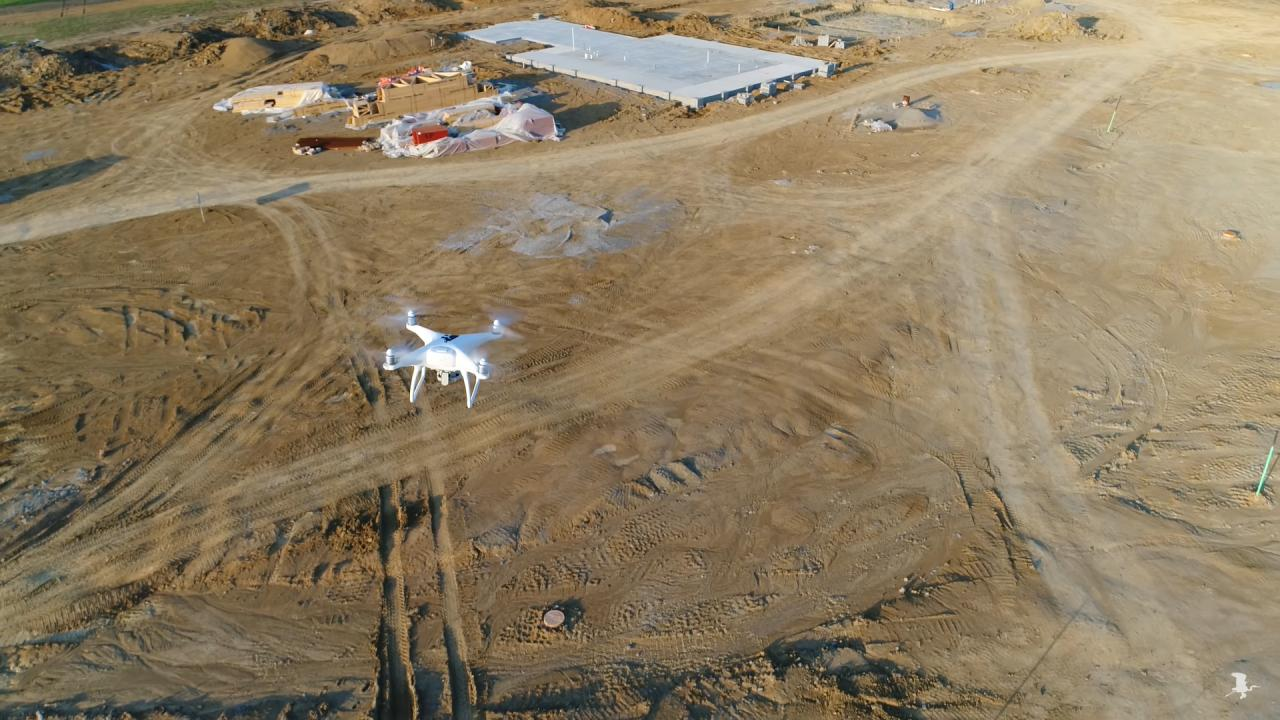Drone: (352, 294, 535, 416)
